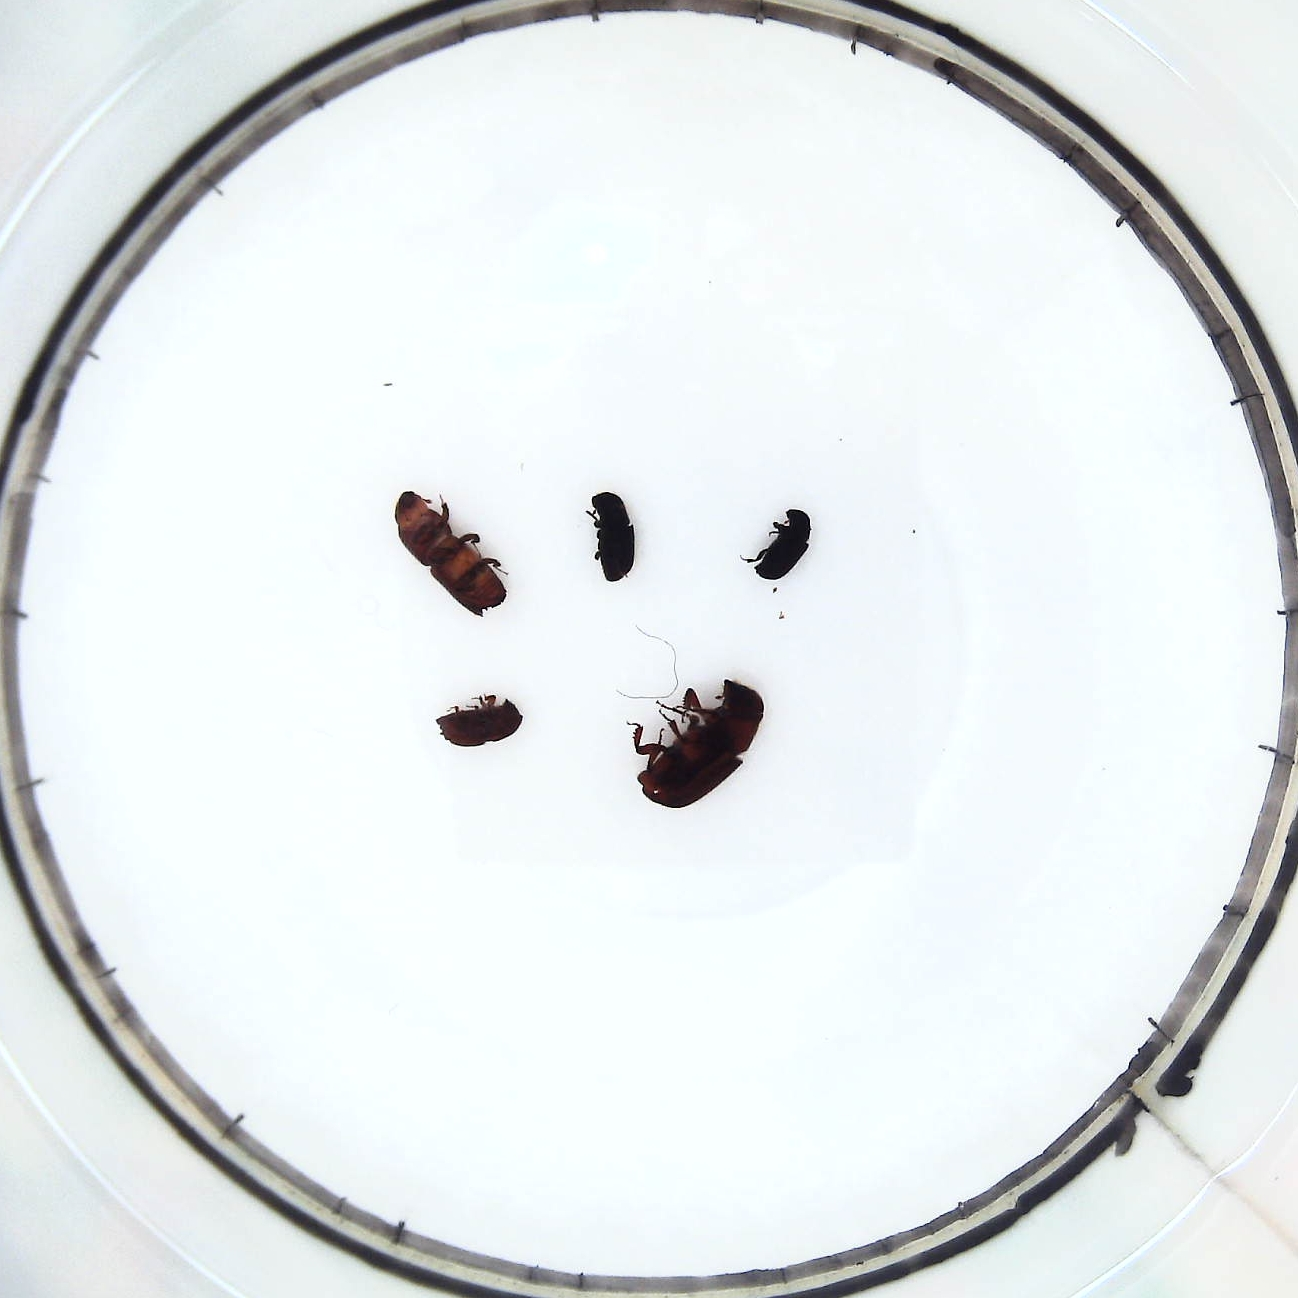Boerner: (389, 486, 516, 618)
Leconte: (628, 676, 771, 813)
armandi: (586, 489, 639, 588)
coleoptera: (741, 505, 818, 581)
linnaeus: (435, 693, 528, 752)
